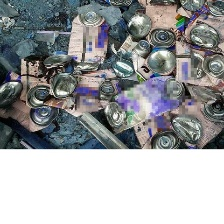aerosol_cans: (100, 73, 187, 134), (0, 78, 64, 137), (166, 90, 223, 155), (61, 7, 111, 74), (126, 38, 180, 92), (172, 36, 223, 91), (138, 0, 191, 52), (15, 51, 60, 110), (183, 0, 224, 47)
